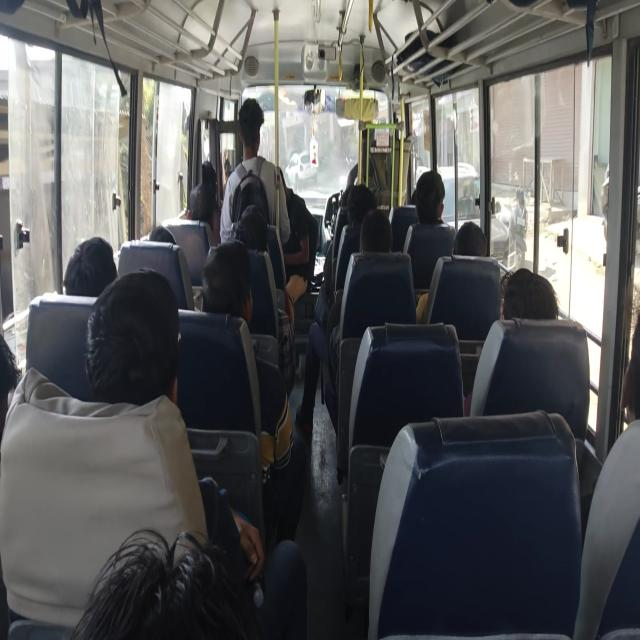person: (84, 266, 265, 582), (200, 239, 307, 543), (70, 506, 308, 639), (573, 313, 639, 638), (295, 183, 376, 436), (463, 266, 559, 416), (84, 266, 180, 406), (219, 97, 291, 249), (416, 220, 487, 324), (402, 170, 456, 294), (277, 167, 314, 327), (62, 235, 118, 297), (499, 267, 559, 321), (188, 160, 221, 244), (0, 334, 22, 442), (507, 185, 528, 268), (452, 220, 487, 256)
